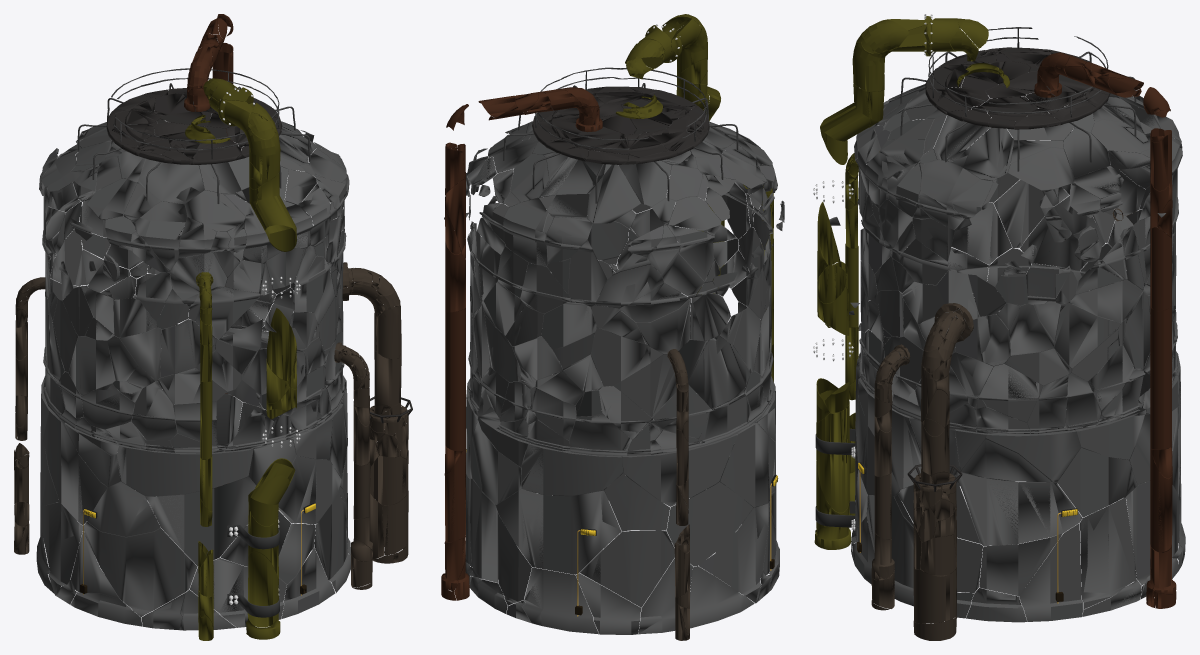
Rendered from Vertical_Storage_Tank_Fractured_origin.fbx.
3 renders of one model, left to right at view 1: azimuth 30°, elevation 25°; view 2: azimuth 150°, elevation 25°; view 3: azimuth 270°, elevation 25°, orthographic. The views are drawn at different scales.
Parts seen in each view (by area): view 1: mesh0.003_cell.074, mesh0.003_cell, mesh0.003_cell.028, mesh0.003_cell.053, mesh0.003_cell.004, mesh0.003_cell.038, mesh0.003_cell.023, mesh0.003_cell.066, mesh0.022_cell.269, mesh0.022_cell.343, mesh0.003_cell.079, mesh0.022_cell.027 (+98 smaller); view 2: mesh0.003_cell.048, mesh0.003_cell.087, mesh0.003_cell.092, mesh0.003_cell.081, mesh0.003_cell.090, mesh0.003_cell.023, mesh0.003_cell.006, mesh0.003_cell.053, mesh0.020_cell.031, mesh0.022_cell.122, mesh0.003_cell.065, mesh0.022_cell.323 (+93 smaller); view 3: mesh0.003_cell.031, mesh0.003_cell.020, mesh0.003_cell.068, mesh0.003_cell.096, mesh0.020_cell.031, mesh0.003_cell.010, mesh0.003_cell.094, mesh0.010_cell.071, mesh0.022_cell.122, mesh0.022_cell.138, mesh0.022_cell.311, mesh0.003_cell.066 (+113 smaller).
Part boxes in pixels (x1,y1,x2,y2): mesh0.003_cell.074: (83,521,197,616); mesh0.003_cell: (145,476,256,566); mesh0.003_cell.028: (117,442,253,496); mesh0.003_cell.053: (43,410,107,525); mesh0.003_cell.004: (278,455,341,524); mesh0.003_cell.038: (87,481,160,536); mesh0.003_cell.023: (40,502,82,595); mesh0.003_cell.066: (314,492,350,592); mesh0.022_cell.269: (135,201,187,270); mesh0.022_cell.343: (138,159,204,203); mesh0.003_cell.079: (189,558,248,627); mesh0.022_cell.027: (68,336,115,395); mesh0.003_cell.048: (496,489,621,574); mesh0.003_cell.087: (580,530,674,607); mesh0.003_cell.092: (521,443,622,495); mesh0.003_cell.081: (622,433,737,506); mesh0.003_cell.090: (666,482,753,565); mesh0.003_cell.023: (698,503,769,603); mesh0.003_cell.006: (522,567,598,634); mesh0.003_cell.053: (720,422,774,507); mesh0.020_cell.031: (445,308,465,451); mesh0.022_cell.122: (688,335,750,408); mesh0.003_cell.065: (469,479,498,582); mesh0.022_cell.323: (590,327,662,386); mesh0.003_cell.031: (956,473,1082,545); mesh0.003_cell.020: (1080,497,1136,609); mesh0.003_cell.068: (1019,523,1083,621); mesh0.003_cell.096: (1057,447,1137,517); mesh0.020_cell.031: (1150,303,1171,449); mesh0.003_cell.010: (979,533,1062,596); mesh0.003_cell.094: (985,424,1080,482); mesh0.010_cell.071: (816,404,849,512); mesh0.022_cell.122: (1020,195,1104,270); mesh0.022_cell.138: (1054,303,1120,368); mesh0.022_cell.311: (978,364,1042,422); mesh0.003_cell.066: (866,495,913,606).
Size of the model in its own units: 244 by 374 by 235.
